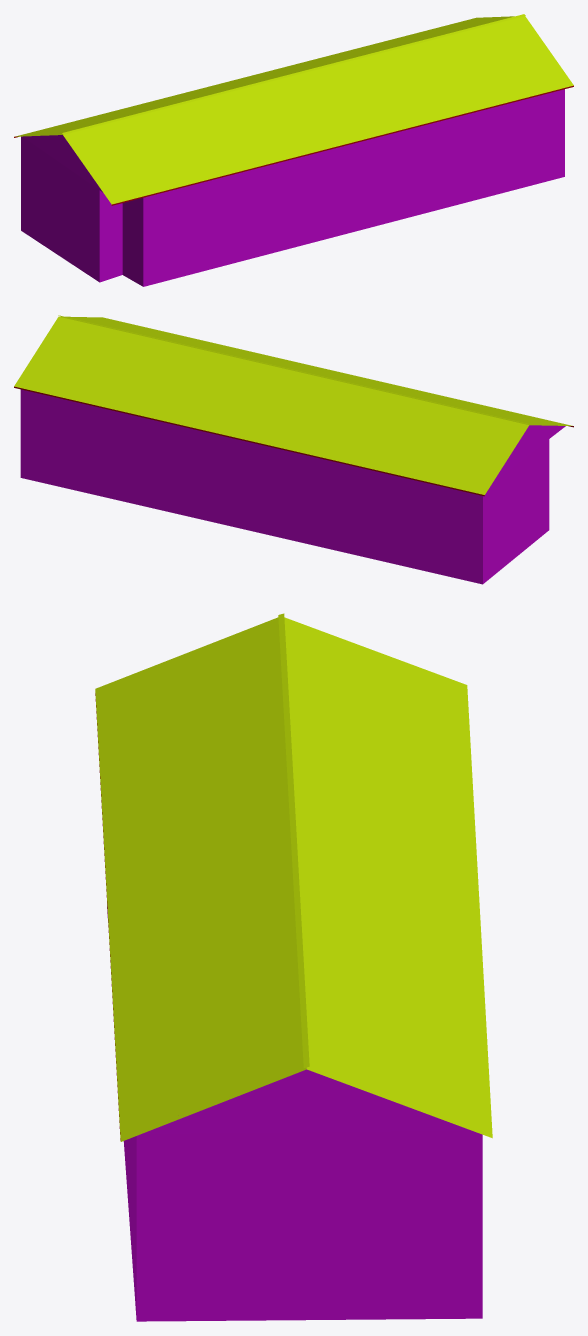
File: svc_31.glb
3 views of the same model, one above another, from view 1: azimuth 30°, elevation 25°; view 2: azimuth 150°, elevation 25°; view 3: azimuth 270°, elevation 25° (orthographic). The views are drawn at different scales.
Parts seen in each view (by area): view 1: svc_31; view 2: svc_31; view 3: svc_31.
Part boxes in pixels (x1,y1,x2,y2): svc_31: (14, 14, 573, 286); svc_31: (14, 315, 573, 584); svc_31: (95, 613, 492, 1321).
Size of the model in its own units: 43.83 by 11.53 by 16.11.
